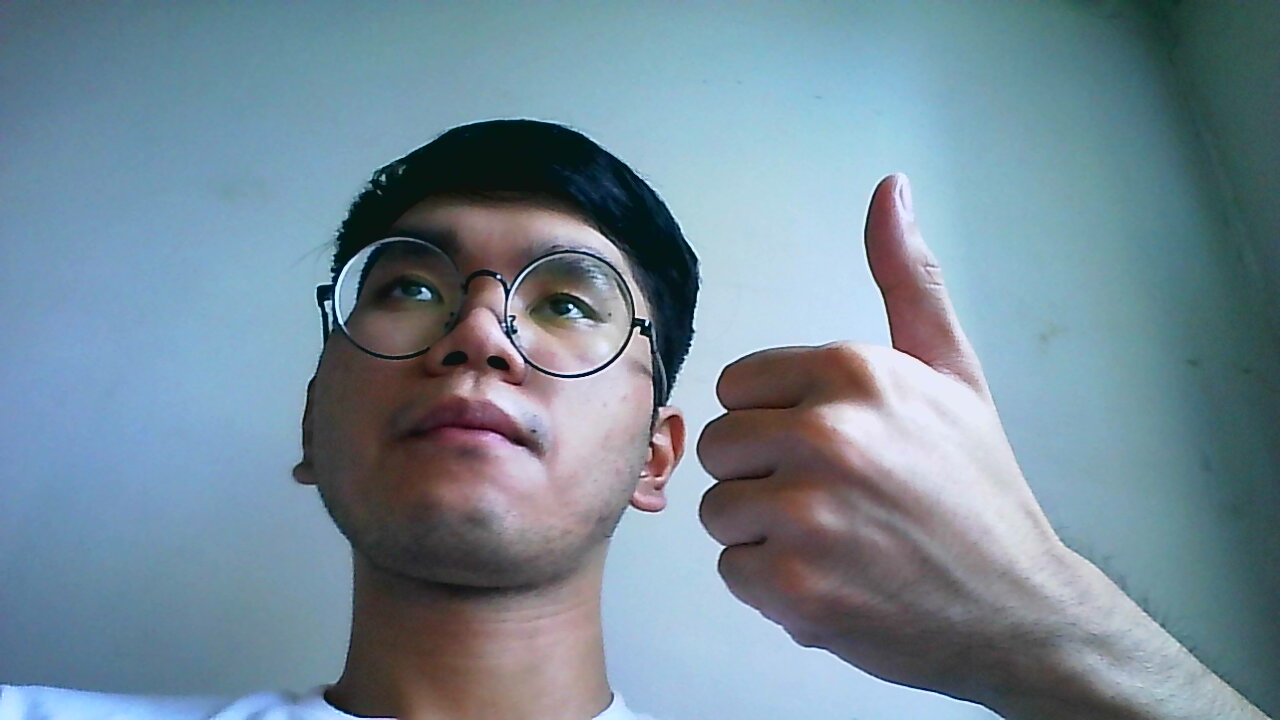thumbs: (698, 171, 1061, 704)
